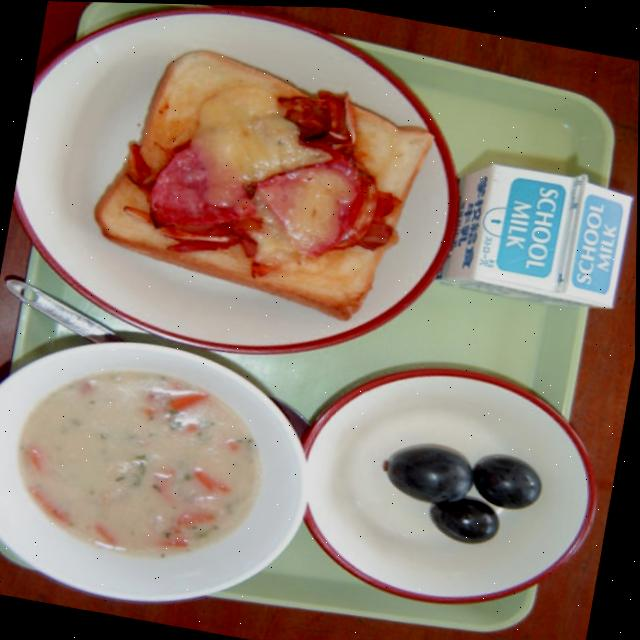面包点心: (80, 29, 445, 331)
